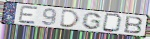9: (41, 8, 58, 27)
B: (123, 15, 144, 35)
D: (59, 9, 82, 29), (102, 13, 124, 33)
E: (18, 5, 39, 25)
G: (81, 12, 103, 31)
